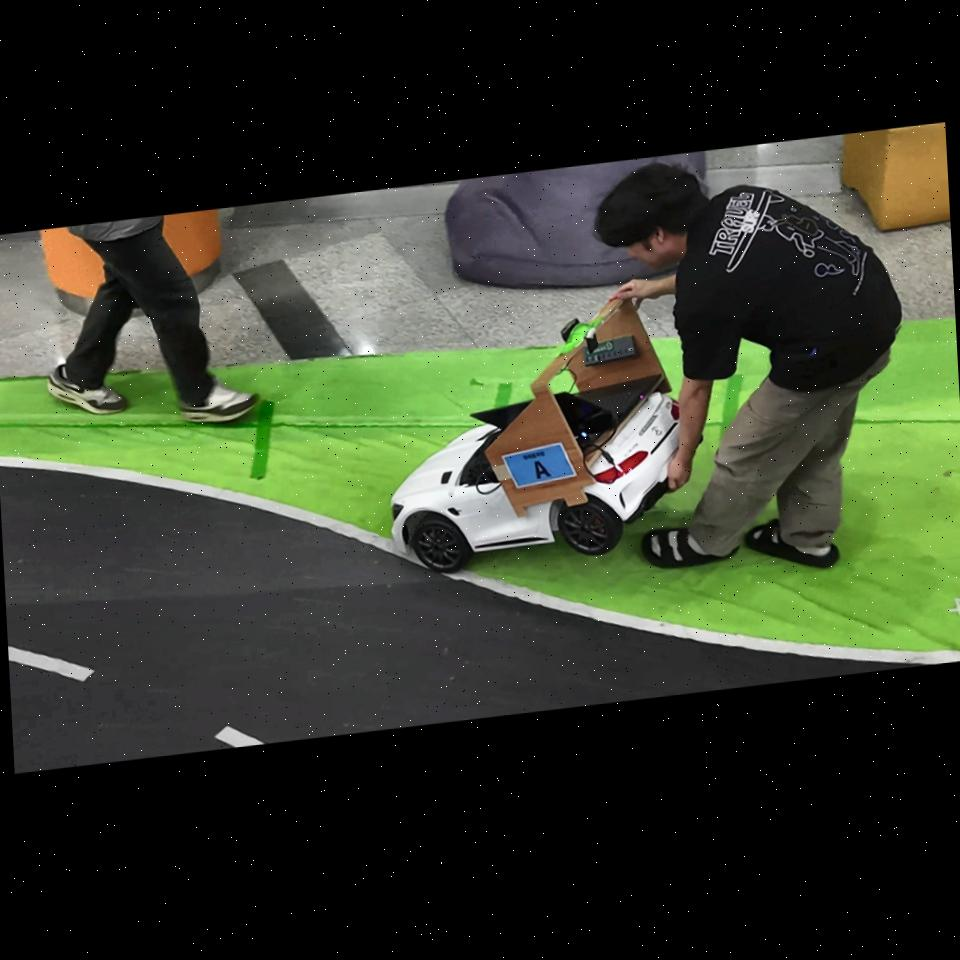broken_line: (8, 646, 94, 681), (215, 726, 264, 747)
